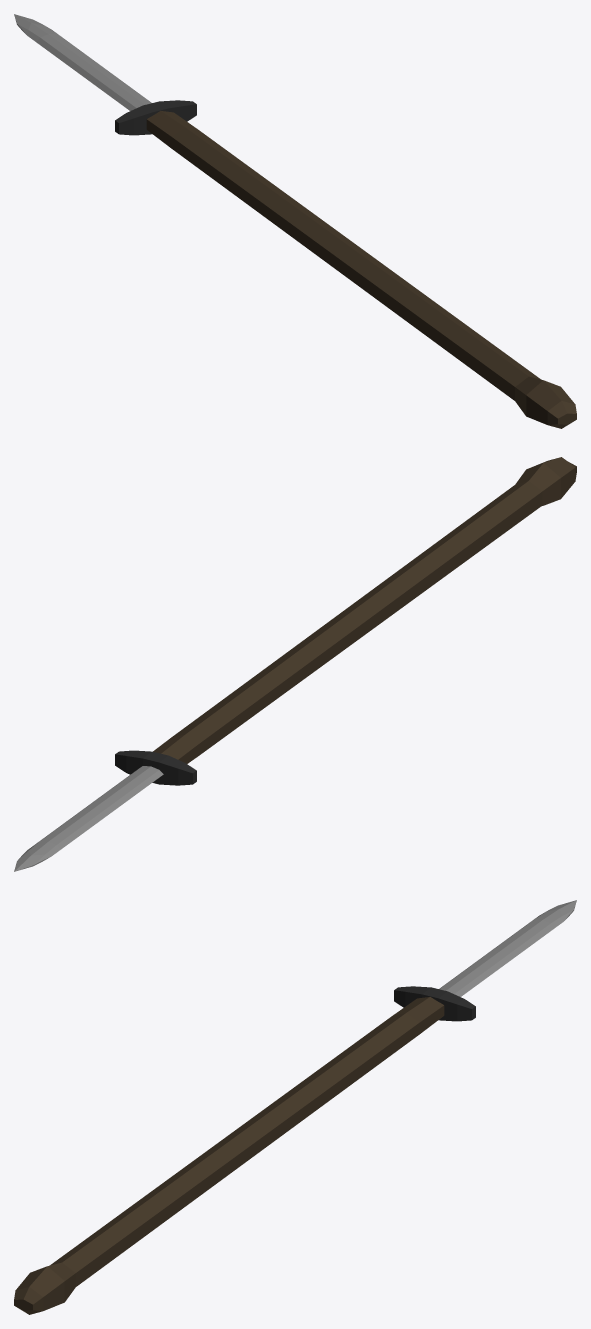
The model's file is Spear.fbx.
3 renders of one model, top to bottom at view 1: azimuth 30°, elevation 25°; view 2: azimuth 150°, elevation 25°; view 3: azimuth 330°, elevation 25°, orthographic.
Parts seen in each view (by area): view 1: SpearHandle, SpearBlade, SpearGuard; view 2: SpearHandle, SpearBlade, SpearGuard; view 3: SpearHandle, SpearBlade, SpearGuard.
Boxes of the visible parts, bbox=[...] form: SpearHandle: bbox=[146, 111, 576, 428]; SpearBlade: bbox=[14, 14, 151, 110]; SpearGuard: bbox=[115, 100, 196, 135]; SpearHandle: bbox=[153, 457, 576, 763]; SpearBlade: bbox=[14, 766, 163, 871]; SpearGuard: bbox=[115, 750, 196, 785]; SpearHandle: bbox=[14, 997, 444, 1314]; SpearBlade: bbox=[439, 900, 576, 996]; SpearGuard: bbox=[394, 986, 475, 1021].
Size of the model in its own units: 56.95 by 29.98 by 701.
